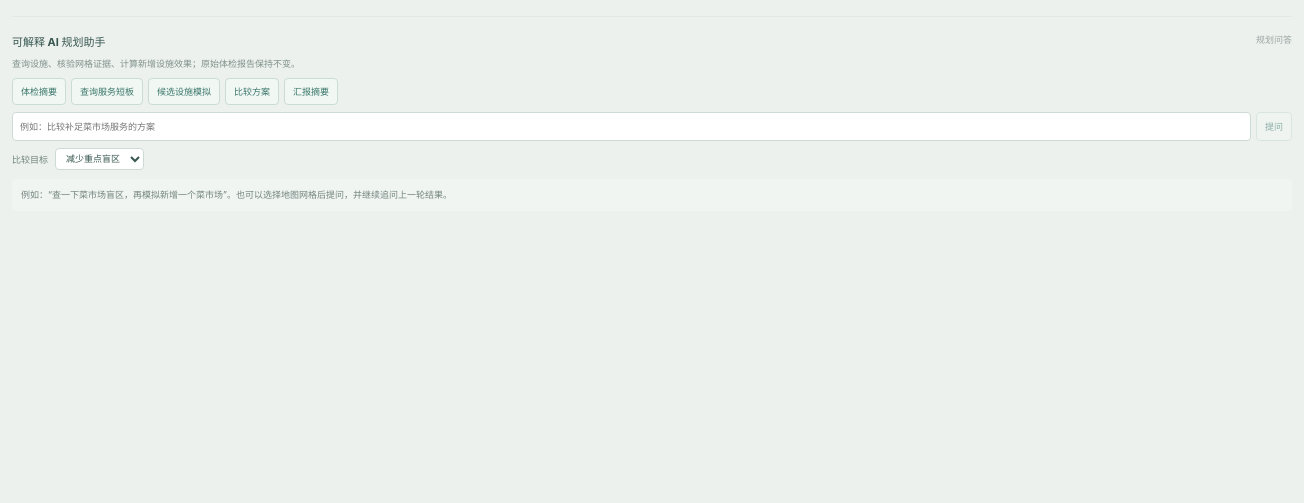
Test: 工具规划助手 › 失败工具显示失败而不会发出模拟成功事件
Type "查询菜市场" into the field with placeholder "例如：比较补足菜市场服务的方案".
click(632, 126); type("查询菜市场")  # box 12,112 -> 1251,141
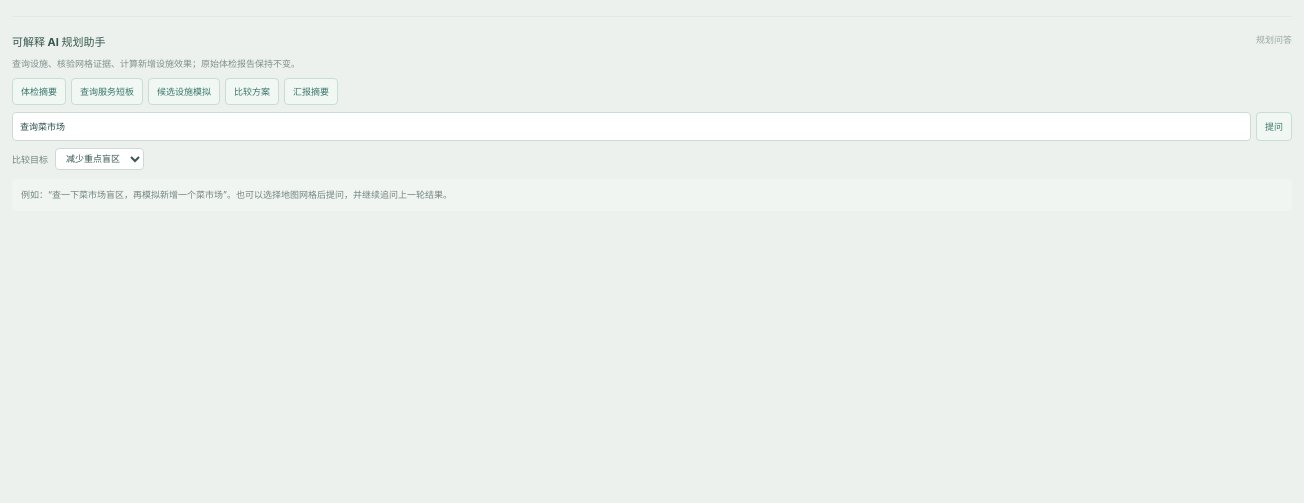
Click the button "提问".
click(1274, 126)  # box 1256,112 -> 1292,141
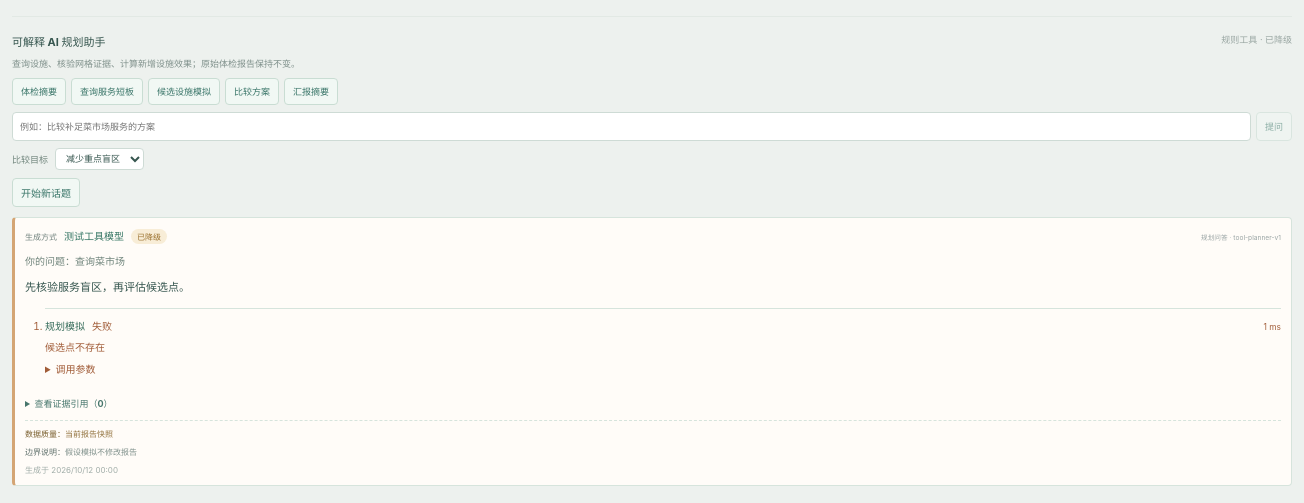
Expected: the text "已降级" is shown, 1221,34 -> 1292,45
Expected: the list shows "失败", 92,320 -> 112,332
Expected: the text "候选点不存在" is shown, 45,341 -> 105,353
